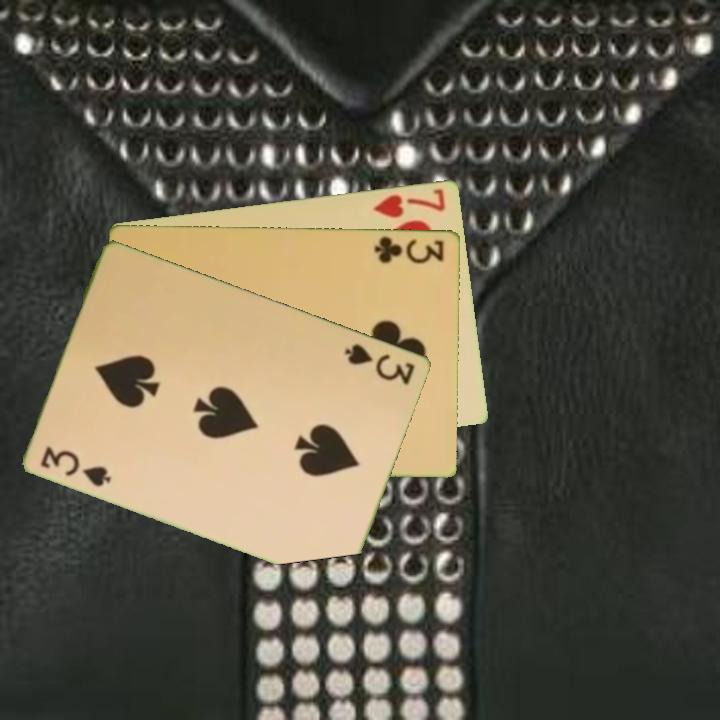3c: (371, 233, 447, 266)
3s: (37, 442, 115, 490), (341, 340, 418, 387)
7h: (370, 184, 448, 220)
